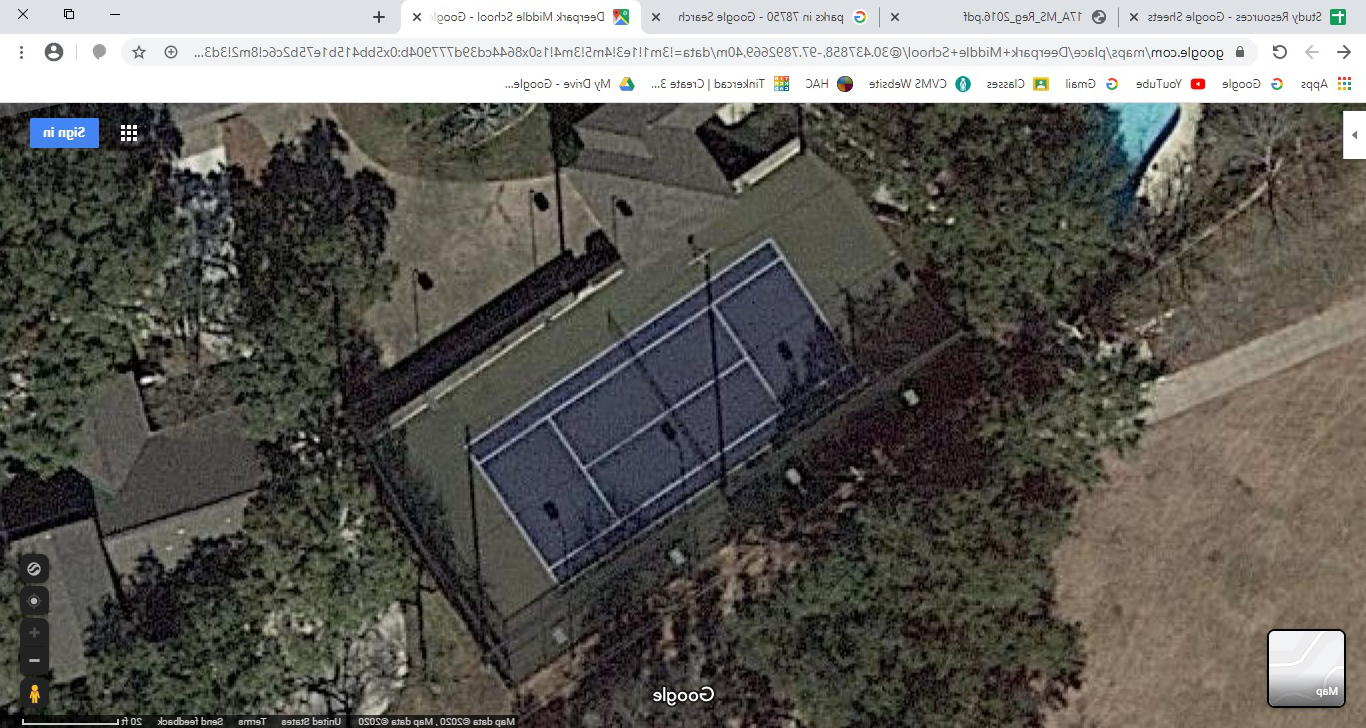tennis: (376, 244, 911, 544)
